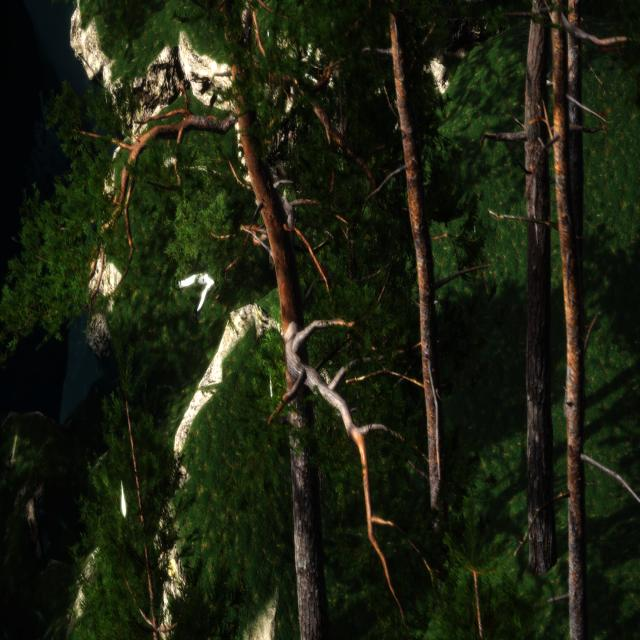Human: (173, 234, 227, 321)
